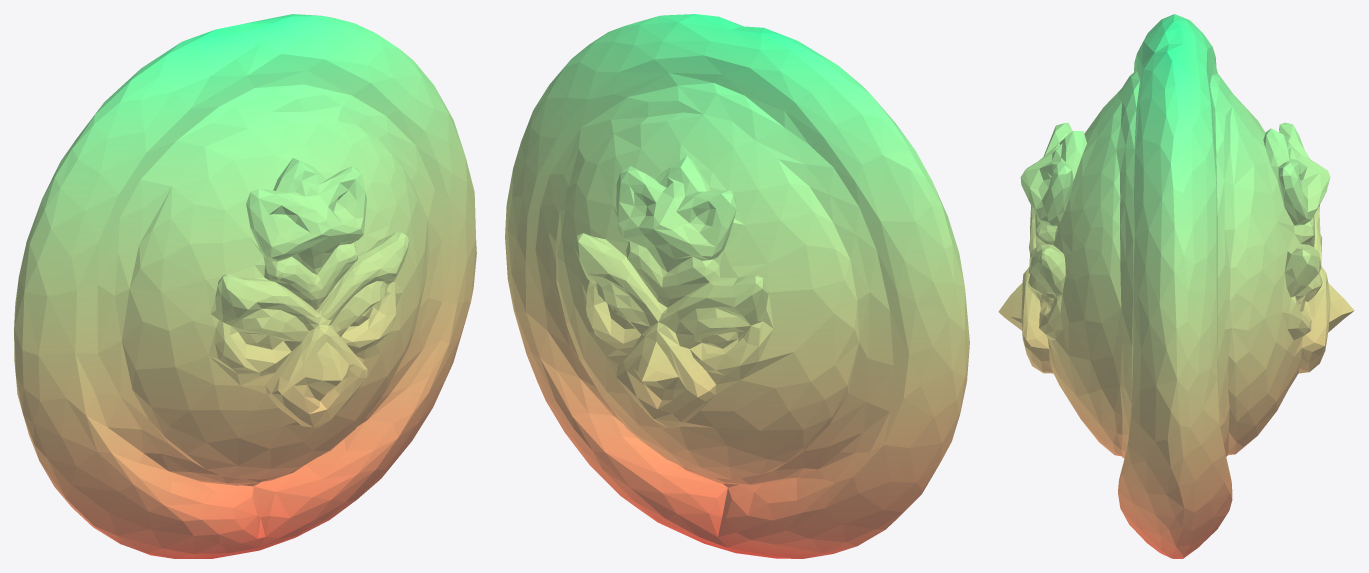
Rendered from 3_cyb_laser_gradient_fish_scales_2960_2026_10_03_4ddb6f.glb.
The picture shows the model from 3 angles, left to right: view 1: azimuth 30°, elevation 25°; view 2: azimuth 150°, elevation 25°; view 3: azimuth 270°, elevation 25°; orthographic projection. The views are drawn at different scales.
Visible parts, largest first — view 1: geometry_0; view 2: geometry_0; view 3: geometry_0.
Part boxes in pixels (<box>): geometry_0: <box>14,14,476,558</box>; geometry_0: <box>505,14,969,558</box>; geometry_0: <box>998,14,1354,558</box>.
Size of the model in its own units: 0.9135 by 0.9992 by 0.6529.
